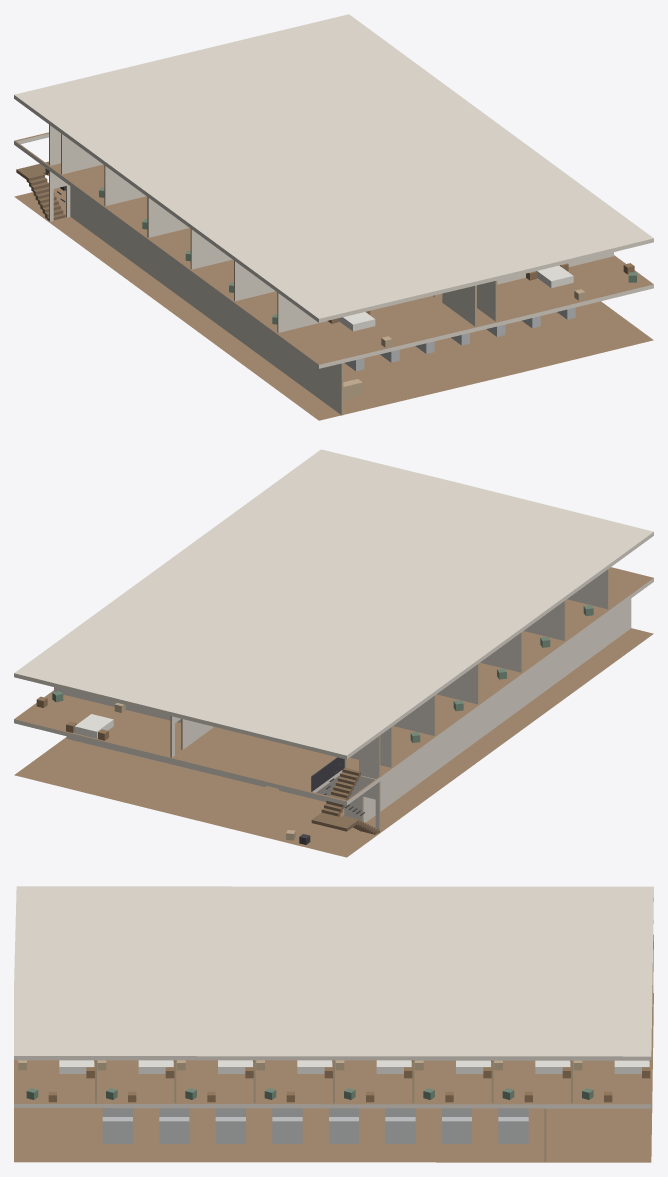
The model's file is interior.glb.
3 views of the same model, one above another, from view 1: azimuth 30°, elevation 25°; view 2: azimuth 150°, elevation 25°; view 3: azimuth 270°, elevation 25° (orthographic). The views are drawn at different scales.
Visible parts, largest first — view 1: slabs, partitions, coarse-s1, coarse-s0, stair; view 2: slabs, partitions, stair, coarse-s1; view 3: slabs, coarse-s0, coarse-s1, partitions.
Boxes of the visible parts, left/top/right/bottom form: slabs: left=14, top=14, right=653, bottom=420; partitions: left=49, top=124, right=613, bottom=415; coarse-s1: left=99, top=187, right=636, bottom=347; coarse-s0: left=60, top=186, right=575, bottom=400; stair: left=16, top=161, right=65, bottom=221; slabs: left=14, top=449, right=653, bottom=857; partitions: left=54, top=569, right=631, bottom=831; stair: left=311, top=757, right=379, bottom=834; coarse-s1: left=36, top=605, right=593, bottom=742; slabs: left=14, top=886, right=653, bottom=1162; coarse-s0: left=102, top=1108, right=528, bottom=1143; coarse-s1: left=18, top=1060, right=650, bottom=1102; partitions: left=95, top=1060, right=572, bottom=1161.
Size of the model in its own units: 22.8 by 6.65 by 36.23.
